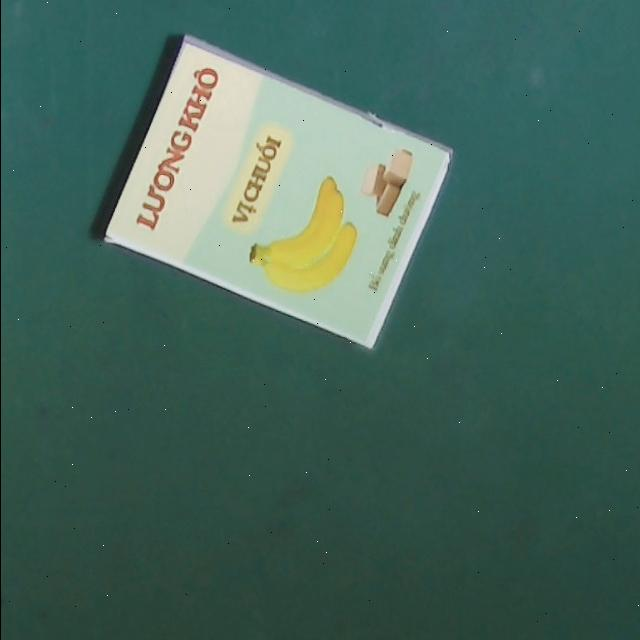chuoi: (95, 33, 457, 356)
